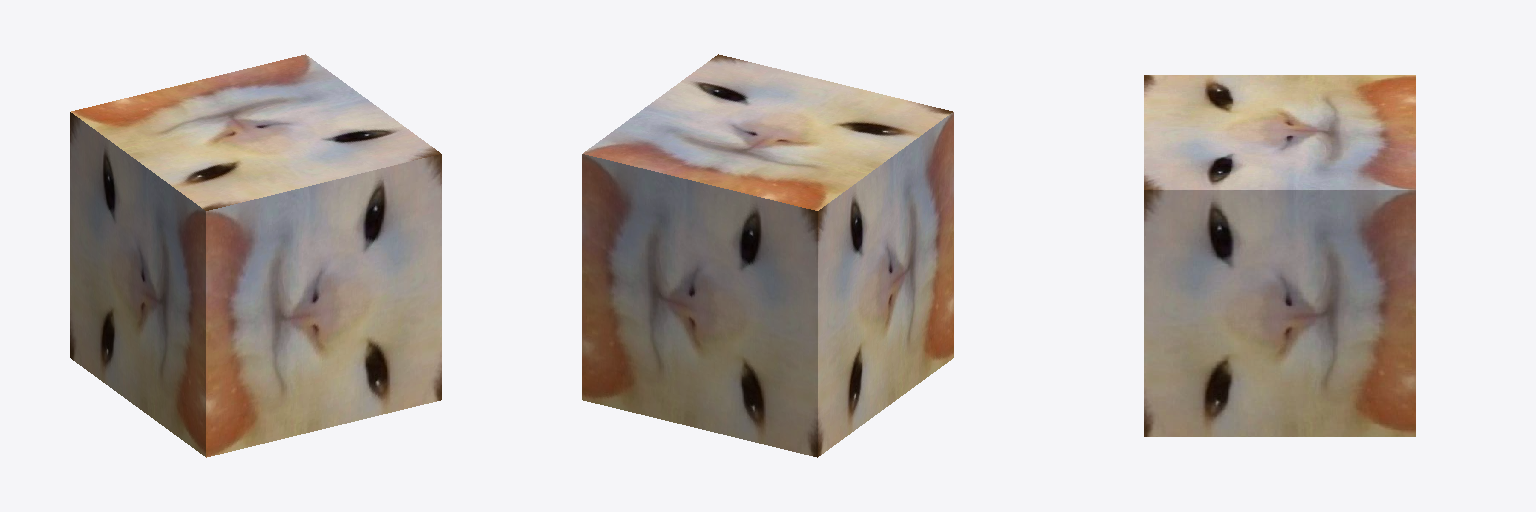
The picture shows the model from 3 angles: view 1: azimuth 30°, elevation 25°; view 2: azimuth 150°, elevation 25°; view 3: azimuth 270°, elevation 25°; orthographic projection.
Visible parts, largest first — view 1: Cube; view 2: Cube; view 3: Cube.
Boxes of the visible parts, <box> form: Cube: <box>70,54,441,457</box>; Cube: <box>582,54,953,457</box>; Cube: <box>1144,75,1415,436</box>.
Bounding box in the file's own units: 2 × 2 × 2.
1 materials, 1 textured.